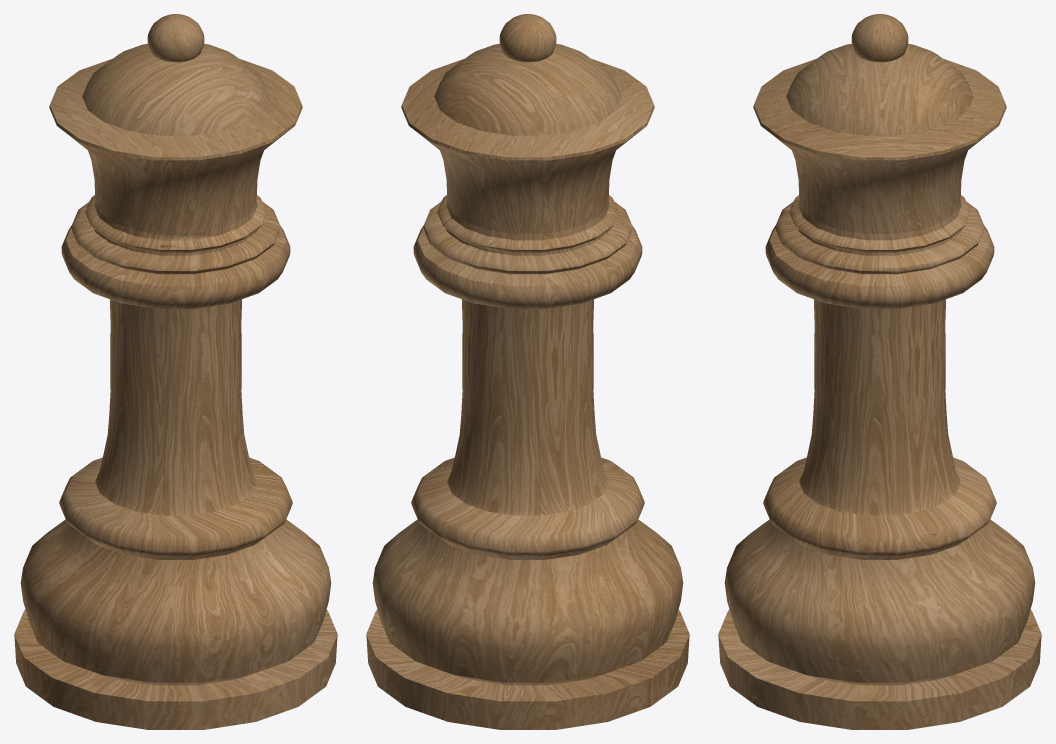
The model's file is white_queen.obj.
3 renders of one model, left to right at view 1: azimuth 30°, elevation 25°; view 2: azimuth 150°, elevation 25°; view 3: azimuth 270°, elevation 25°, orthographic.
Visible parts, largest first — view 1: Queen_W_Material_009_0.001; view 2: Queen_W_Material_009_0.001; view 3: Queen_W_Material_009_0.001.
Part boxes in pixels (x1=…): Queen_W_Material_009_0.001: x1=14, y1=14, x2=337, y2=729; Queen_W_Material_009_0.001: x1=366, y1=14, x2=689, y2=729; Queen_W_Material_009_0.001: x1=718, y1=14, x2=1041, y2=729.
Bounding box in the file's own units: 2.63 × 5.96 × 2.67.
